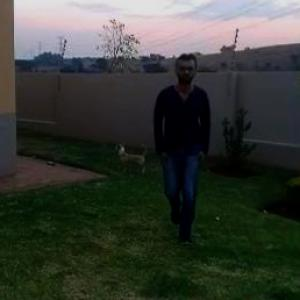follow: (150, 51, 208, 229)
